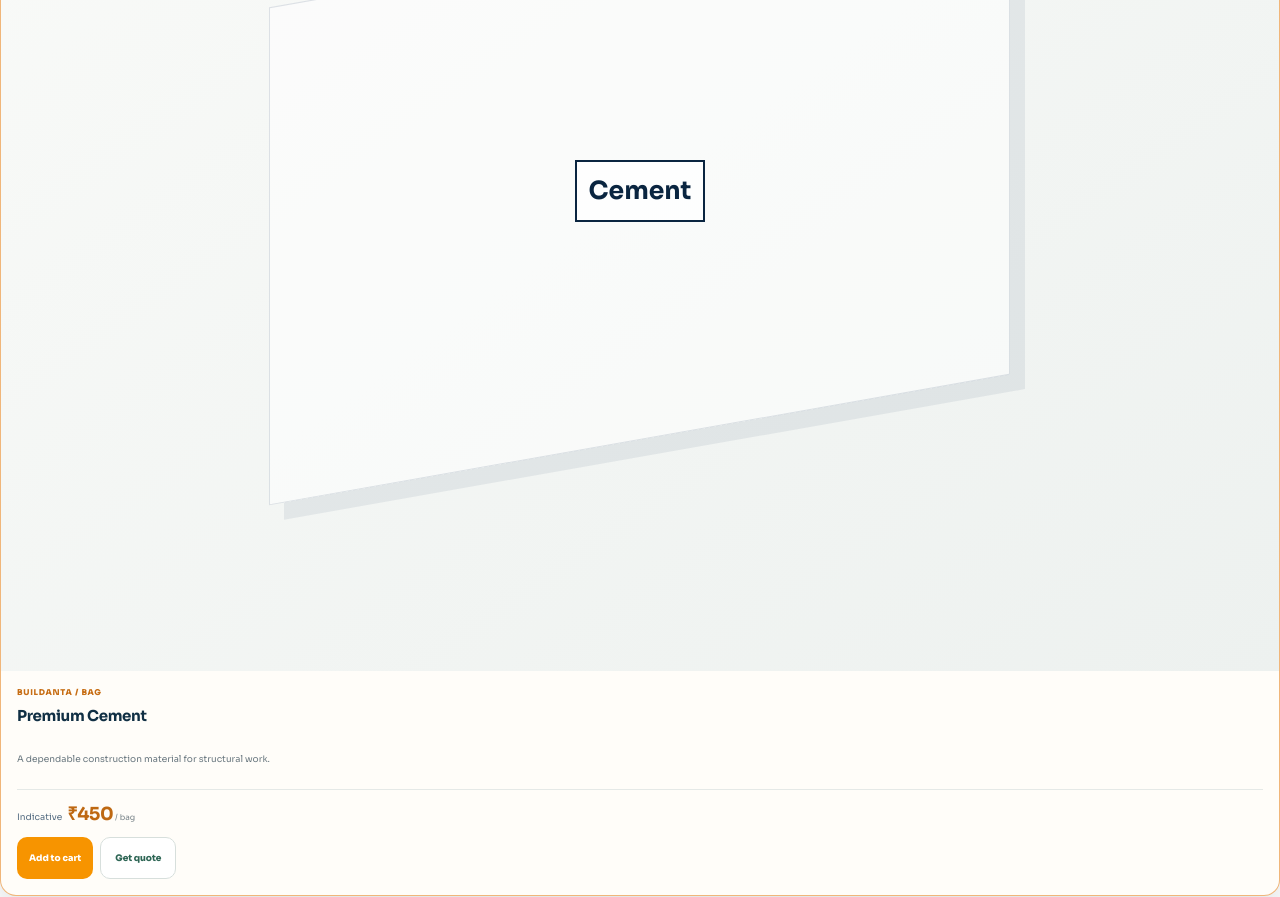
Test: ProductCard purchase actions › uses an add-to-cart CTA and requires an exact selection for multiple variants
The image size is (1280, 897).
(page scrolled)
Click the button with aria-label "Add Premium Cement to cart".
click(55, 858)  # box [17,837,93,879]
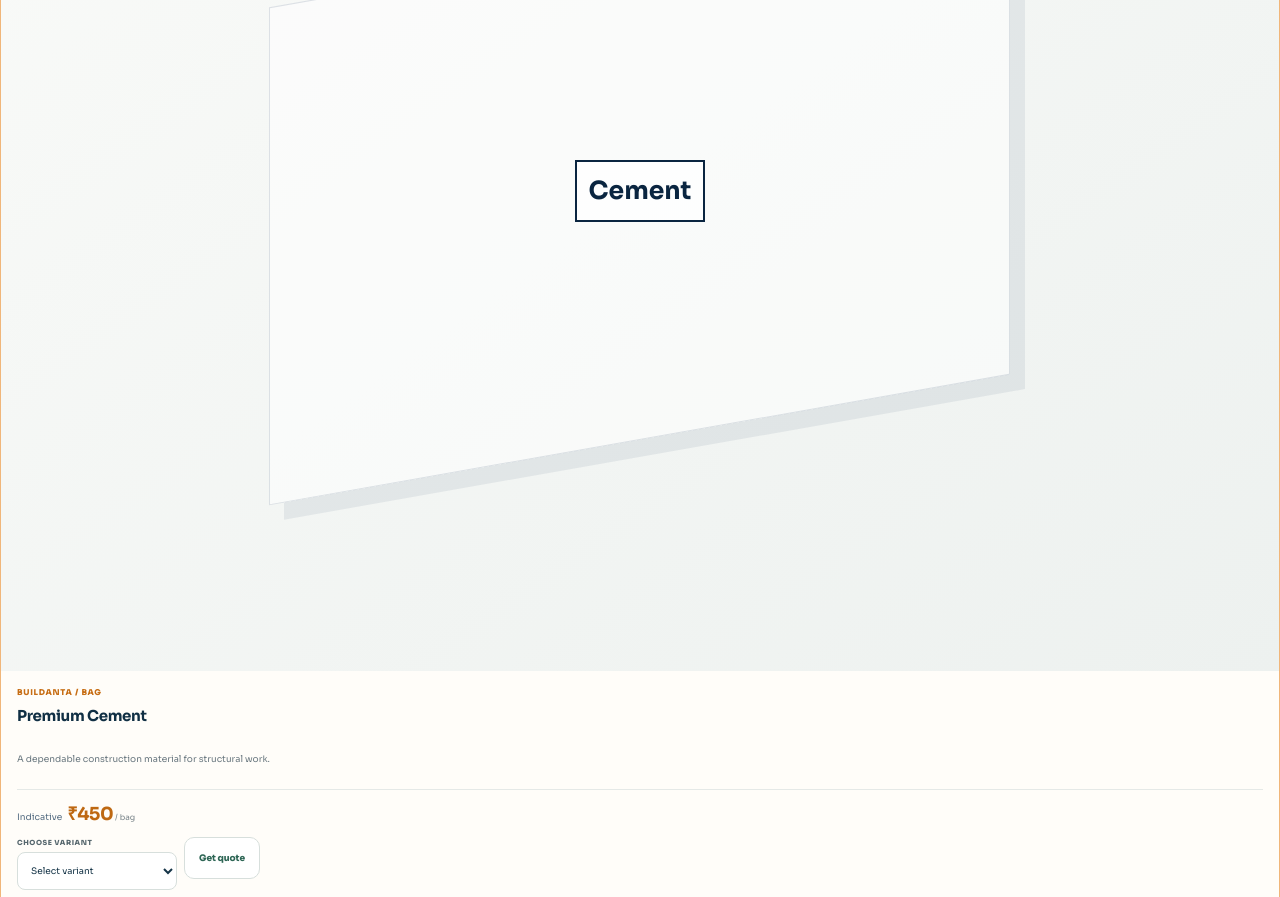
Result: the dropdown named "Choose variant for Premium Cement" is shown
Select "50 kg / VARIANT-TWO" in the dropdown named "Choose variant for Premium Cement" at (97, 871), box [17,852,177,890]
(page scrolled)
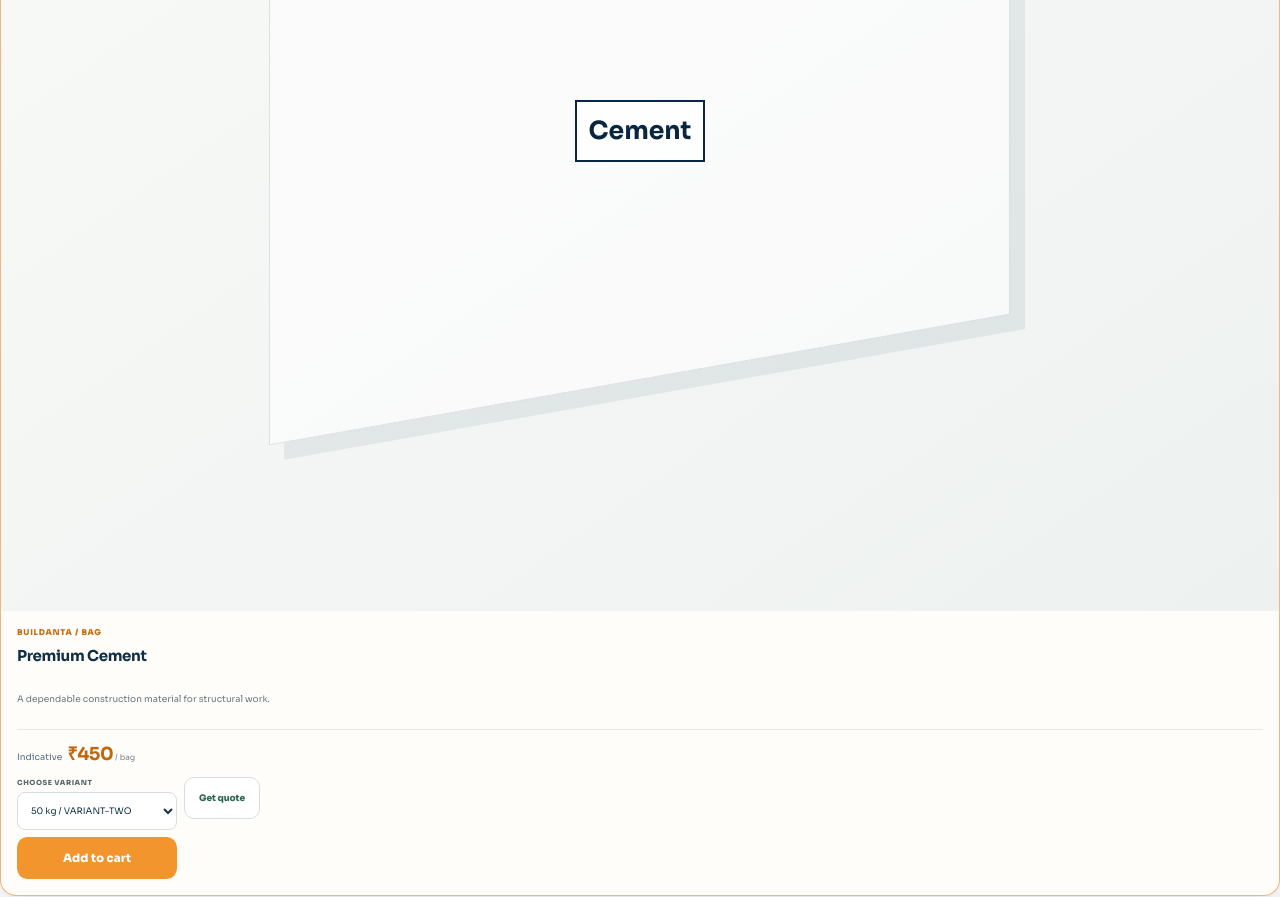
Click the button with aria-label "Add Premium Cement to cart".
click(97, 858)  # box [17,837,177,879]
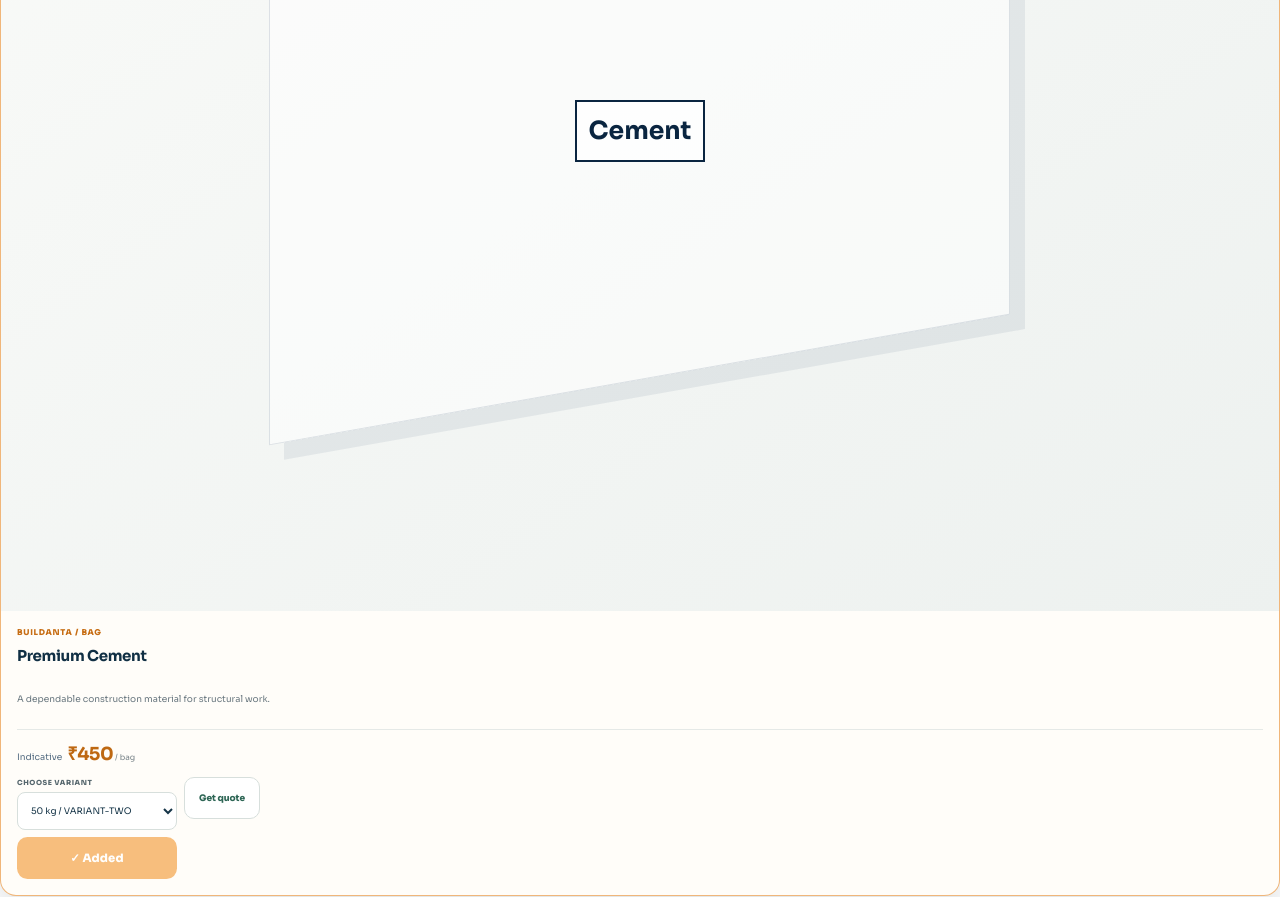
Result: the button "✓ Added" is shown at [17,837,177,879]
